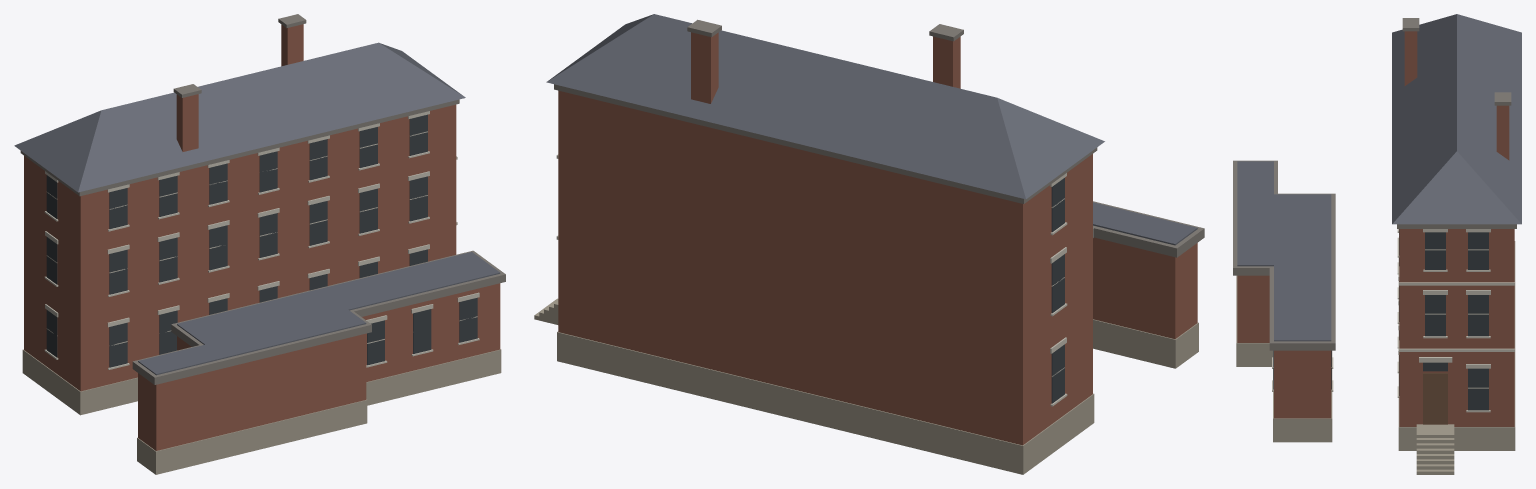
The model's file is house_1931_indiana__draft_1904.glb.
3 renders of one model, left to right at view 1: azimuth 30°, elevation 25°; view 2: azimuth 150°, elevation 25°; view 3: azimuth 270°, elevation 25°, orthographic. The views are drawn at different scales.
Visible parts, largest first — view 1: house_1931_indiana__draft_1904; view 2: house_1931_indiana__draft_1904; view 3: house_1931_indiana__draft_1904.
Part boxes in pixels (<box>): house_1931_indiana__draft_1904: <box>14,14,505,474</box>; house_1931_indiana__draft_1904: <box>534,14,1204,474</box>; house_1931_indiana__draft_1904: <box>1233,14,1521,474</box>.
Size of the model in its own units: 24.19 by 15.7 by 13.8.
